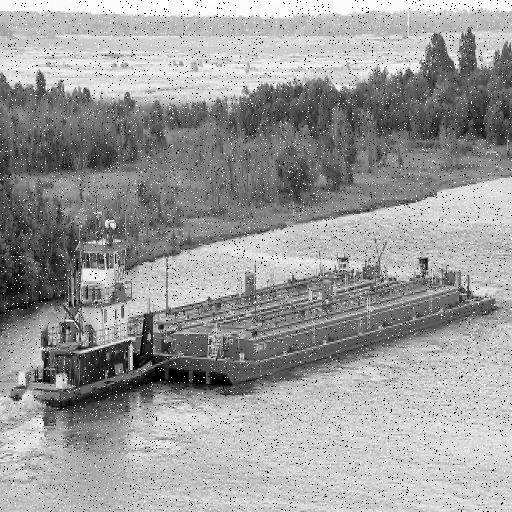tugboat: (8, 189, 166, 420)
